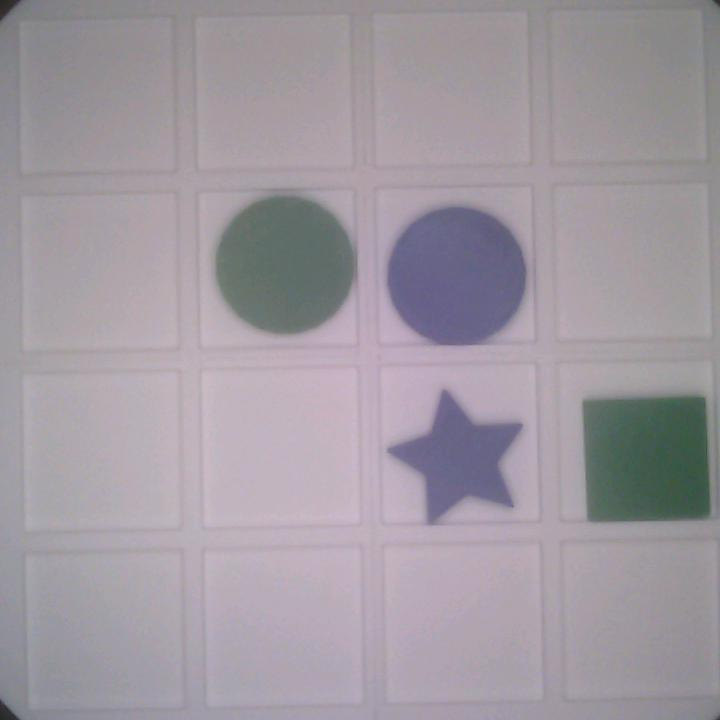Blue circle: (386, 203, 530, 352)
Blue star: (383, 384, 523, 525)
Green circle: (213, 194, 359, 340)
Green square: (578, 388, 716, 528)
